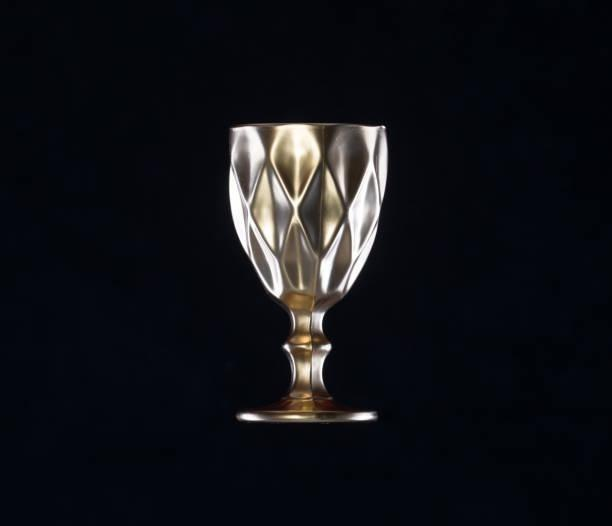glass-wine: (225, 120, 391, 425)
